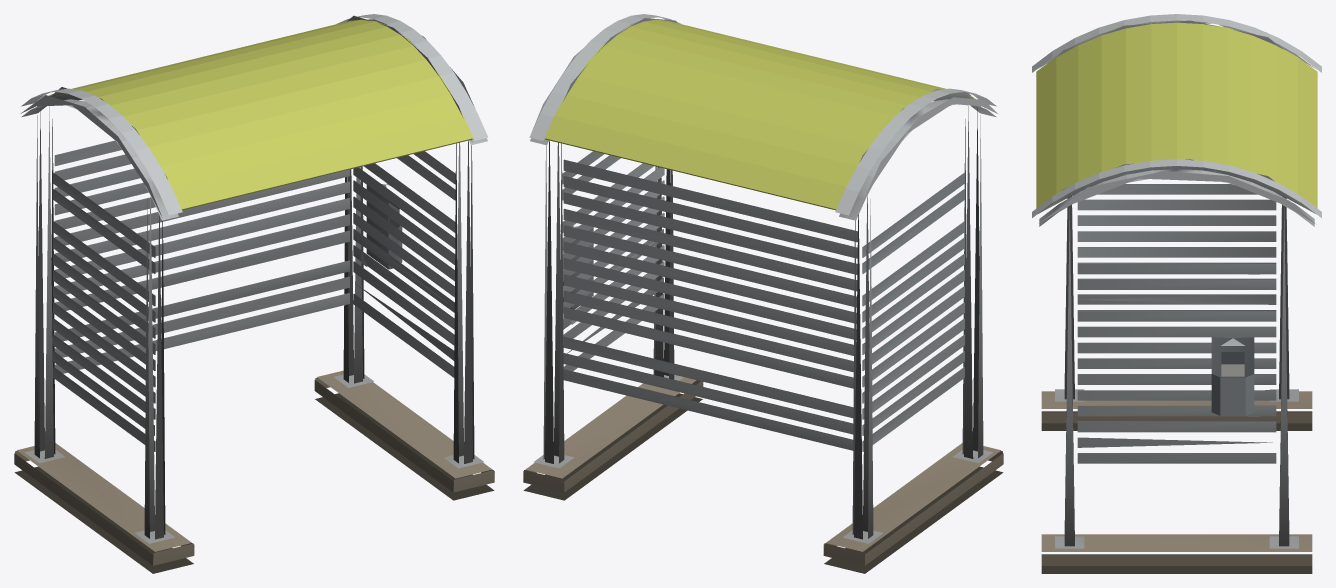
The model's file is shelter.lod.glb.
The picture shows the model from 3 angles, left to right: view 1: azimuth 30°, elevation 25°; view 2: azimuth 150°, elevation 25°; view 3: azimuth 270°, elevation 25°; orthographic projection. The views are drawn at different scales.
Visible parts, largest first — view 1: shelter.001; view 2: shelter.001; view 3: shelter.001.
Boxes of the visible parts, left/top/right/bottom form: shelter.001: left=14, top=14, right=494, bottom=573; shelter.001: left=523, top=14, right=1003, bottom=573; shelter.001: left=1032, top=14, right=1321, bottom=573.
Size of the model in its own units: 1.99 by 2.3 by 1.5.
